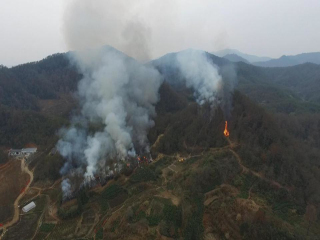smoke: (51, 4, 163, 197), (175, 47, 235, 115)
